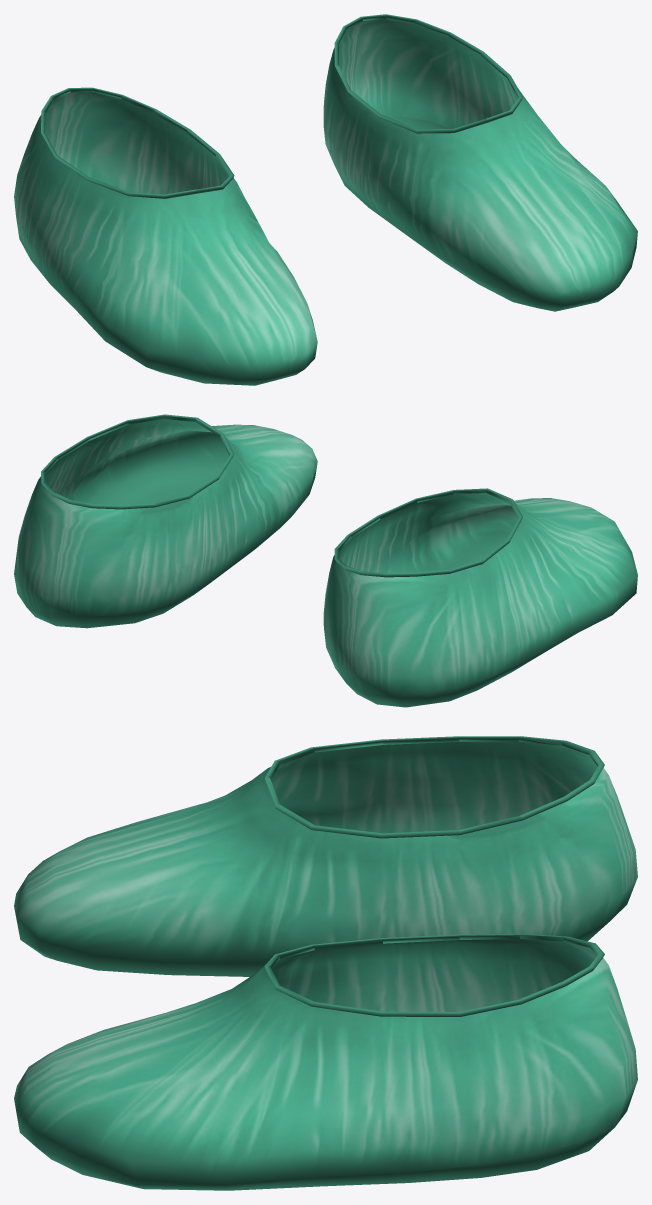
The model's file is penutup_sepatu.fbx.
3 views of the same model, one above another, from view 1: azimuth 30°, elevation 25°; view 2: azimuth 150°, elevation 25°; view 3: azimuth 270°, elevation 25° (orthographic). The views are drawn at different scales.
Parts seen in each view (by area): view 1: penutup_sepatu:Layer2, penutup_sepatu:Layer1; view 2: penutup_sepatu:Layer2, penutup_sepatu:Layer1; view 3: penutup_sepatu:Layer1, penutup_sepatu:Layer2.
Boxes of the visible parts, box(x1,y1,x2,y2) form: penutup_sepatu:Layer2: box(14, 87, 317, 385); penutup_sepatu:Layer1: box(323, 14, 637, 311); penutup_sepatu:Layer2: box(323, 488, 637, 707); penutup_sepatu:Layer1: box(14, 414, 317, 628); penutup_sepatu:Layer1: box(14, 933, 637, 1190); penutup_sepatu:Layer2: box(14, 736, 637, 976).
Bounding box in the file's own units: 43.2 × 11.42 × 34.48.
1 material, 1 textured.
